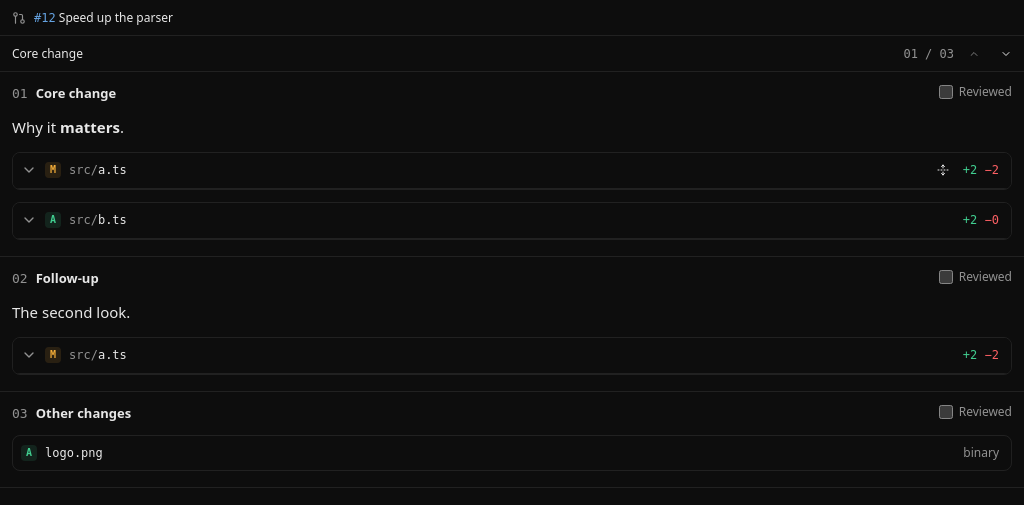
GuideView › collapses a section marked Reviewed, kept for this generation only
This screenshot has width=1024, height=505.
Later steps or results of the test are not shown.
Expected: the heading "01Core change" is shown, [12,84,116,102]
What coordinates should you click on to do the following:
click the 1st checkbox labelled "Reviewed"
I would click on:
 (946, 92)
Its box is [939,85,953,99].
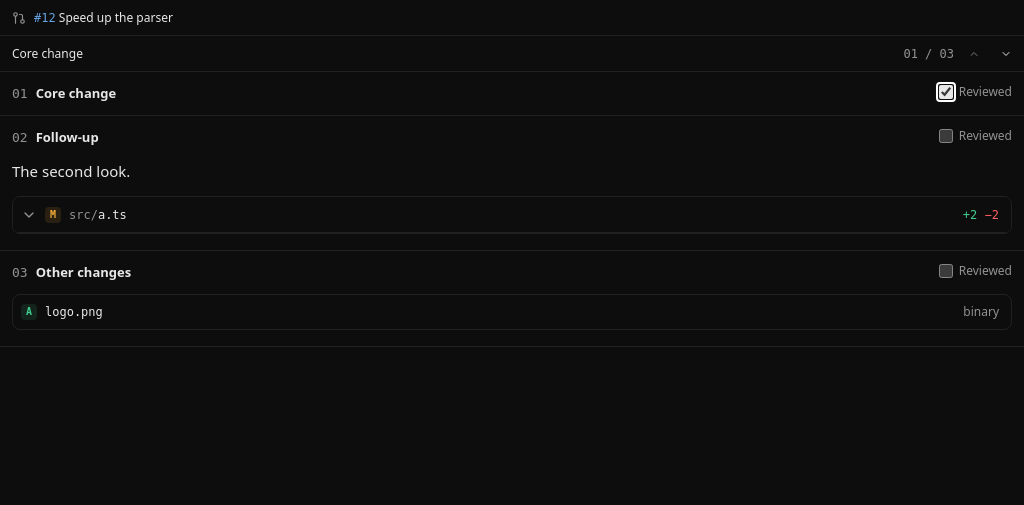
Expected: the 1st checkbox labelled "Reviewed" is checked, [939,85,953,99]
Expected: the text "M src/ a.ts +2 −2" is gone
Expected: the text "matters" is gone
